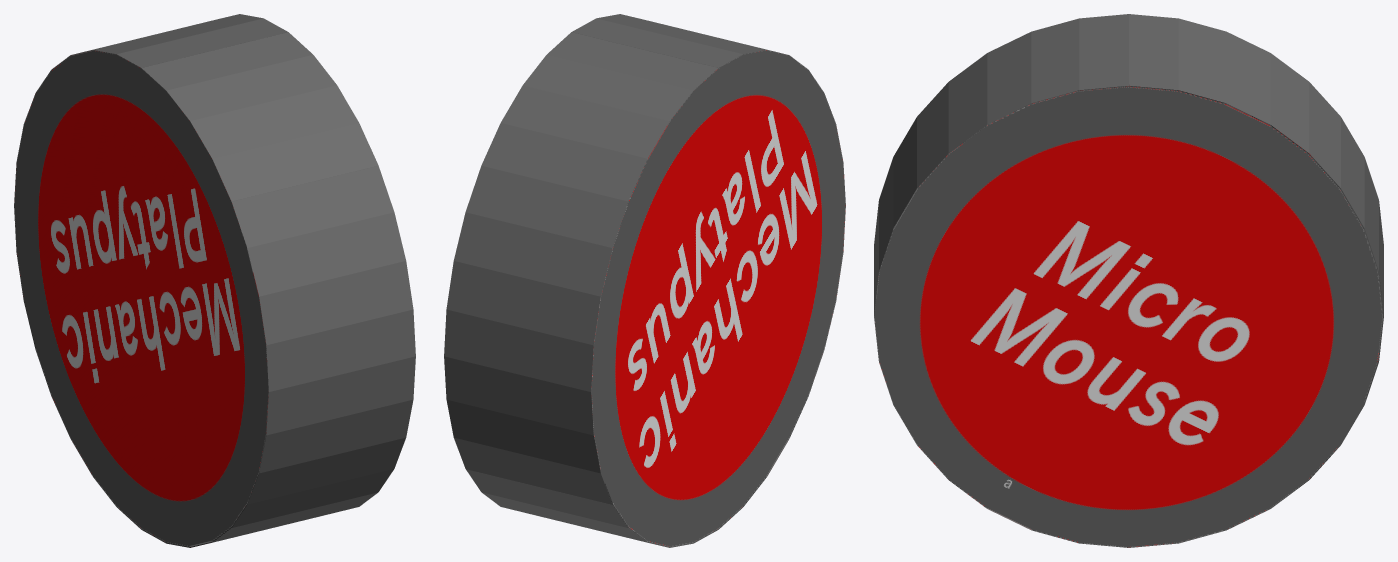
File: new_wheel.dae
3 views of the same model, side by side, from view 1: azimuth 30°, elevation 25°; view 2: azimuth 150°, elevation 25°; view 3: azimuth 270°, elevation 25° (orthographic).
Visible parts, largest first — view 1: Cylinder; view 2: Cylinder; view 3: Cylinder.
Part boxes in pixels (x1=…): Cylinder: x1=14, y1=14, x2=415, y2=547; Cylinder: x1=444, y1=14, x2=845, y2=547; Cylinder: x1=874, y1=14, x2=1383, y2=547.
Size of the model in its own units: 0.01 by 0.03 by 0.03.
1 material, 1 textured.
